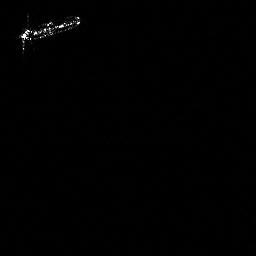ship: (20, 14, 81, 51)
